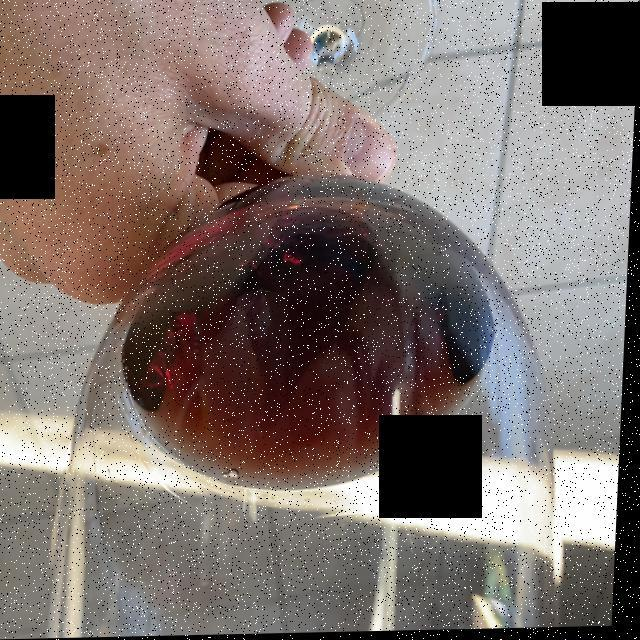wine: (125, 182, 504, 487)
